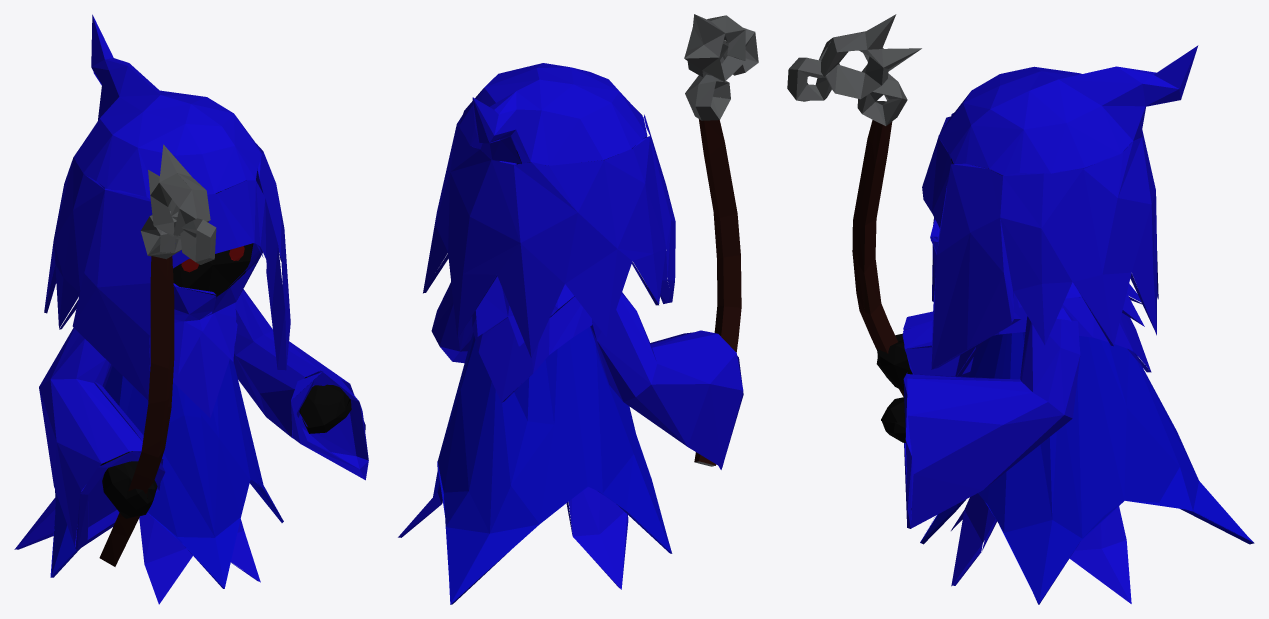
Rendered from mage.obj.
3 renders of one model, left to right at view 1: azimuth 30°, elevation 25°; view 2: azimuth 150°, elevation 25°; view 3: azimuth 270°, elevation 25°, orthographic. The views are drawn at different scales.
Parts seen in each view (by area): view 1: Group7_uDim_2_0.001, Group7_uDim_2_0, Group7_uDim_2_0.007, Group7_uDim_2_0.003, Group7_uDim_2_0.005; view 2: Group7_uDim_2_0.001, Group7_uDim_2_0, Group7_uDim_2_0.007, Group7_uDim_2_0.005; view 3: Group7_uDim_2_0.001, Group7_uDim_2_0, Group7_uDim_2_0.005, Group7_uDim_2_0.007, Group7_uDim_2_0.003.
Part boxes in pixels (<box>): Group7_uDim_2_0.001: <box>14,14,368,604</box>; Group7_uDim_2_0: <box>50,359,283,588</box>; Group7_uDim_2_0.007: <box>99,252,174,566</box>; Group7_uDim_2_0.003: <box>100,191,351,518</box>; Group7_uDim_2_0.005: <box>141,144,216,264</box>; Group7_uDim_2_0.001: <box>398,63,743,589</box>; Group7_uDim_2_0: <box>433,327,672,604</box>; Group7_uDim_2_0.007: <box>694,119,741,465</box>; Group7_uDim_2_0.005: <box>684,14,758,120</box>; Group7_uDim_2_0.001: <box>902,45,1198,603</box>; Group7_uDim_2_0: <box>920,297,1254,604</box>; Group7_uDim_2_0.005: <box>787,14,921,125</box>; Group7_uDim_2_0.007: <box>852,120,903,396</box>; Group7_uDim_2_0.003: <box>876,158,1002,442</box>.
Size of the model in its own units: 2 by 3.41 by 2.8.
